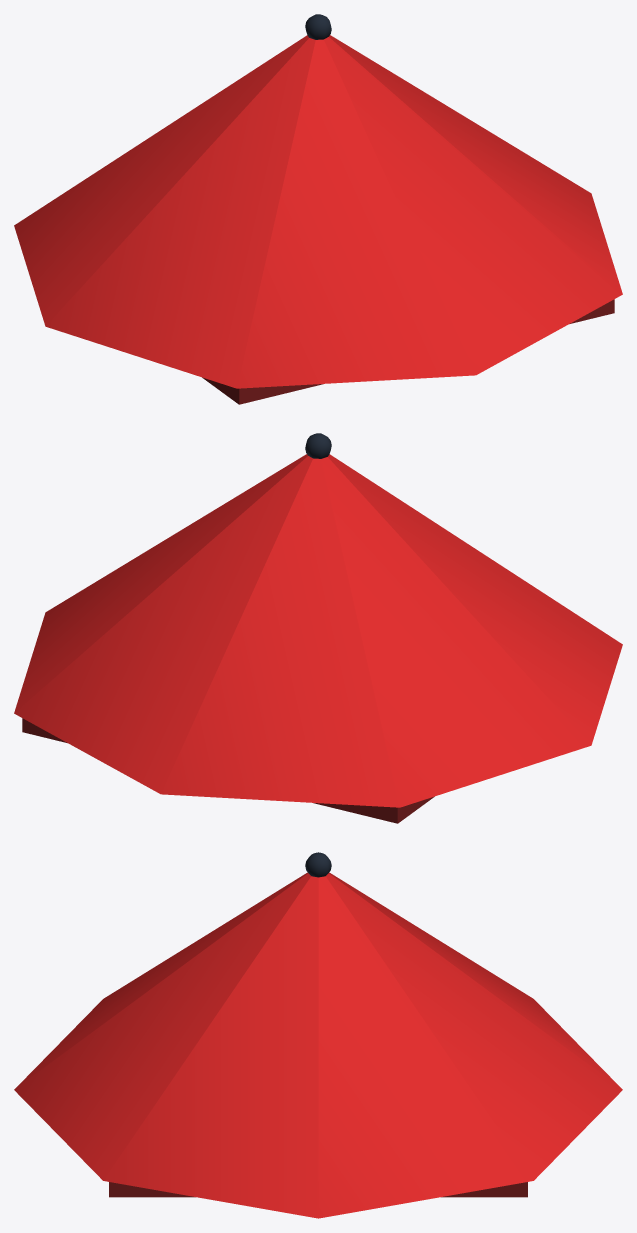
File: roof_red_cone.glb
3 views of the same model, one above another, from view 1: azimuth 30°, elevation 25°; view 2: azimuth 150°, elevation 25°; view 3: azimuth 270°, elevation 25° (orthographic). The views are drawn at different scales.
Bounding box in the file's own units: 1.88 × 0.8703 × 1.88.
